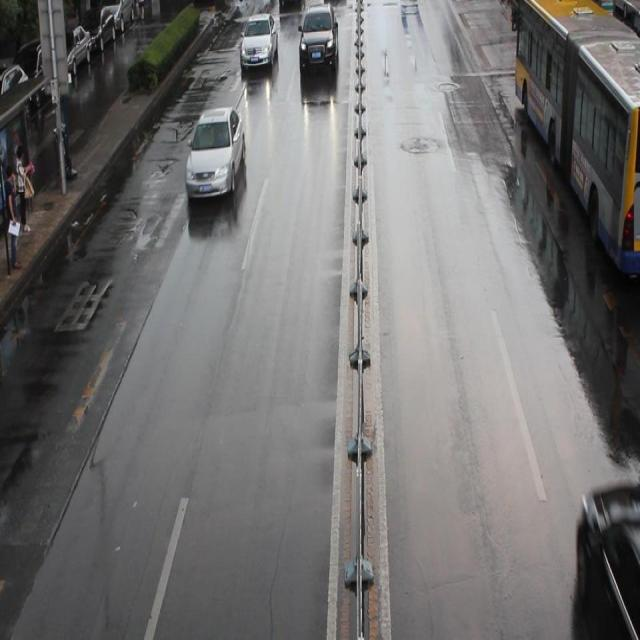car: (575, 482, 640, 640), (184, 107, 245, 199), (298, 1, 338, 77), (239, 12, 277, 72)
truck: (278, 1, 306, 17)
van: (513, 1, 640, 274)
